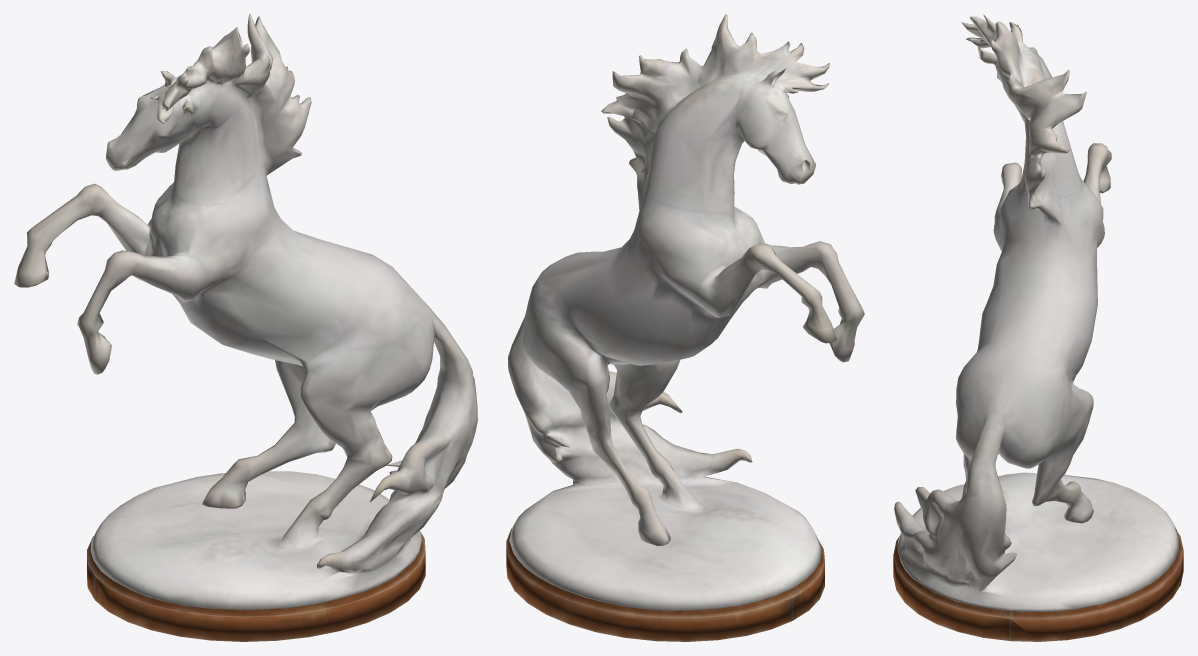
File: suea_lo.glb
The picture shows the model from 3 angles, left to right: view 1: azimuth 30°, elevation 25°; view 2: azimuth 150°, elevation 25°; view 3: azimuth 270°, elevation 25°; orthographic projection. The views are drawn at different scales.
Visible parts, largest first — view 1: horse_statue_01; view 2: horse_statue_01; view 3: horse_statue_01.
Boxes of the visible parts, x1,y1,x2,y2 form: horse_statue_01: (14,14,477,641); horse_statue_01: (506,14,864,641); horse_statue_01: (893,14,1183,641).
Bounding box in the file's own units: 0.1584 × 0.2199 × 0.1081.
Materials: 1 (1 with a texture image).
